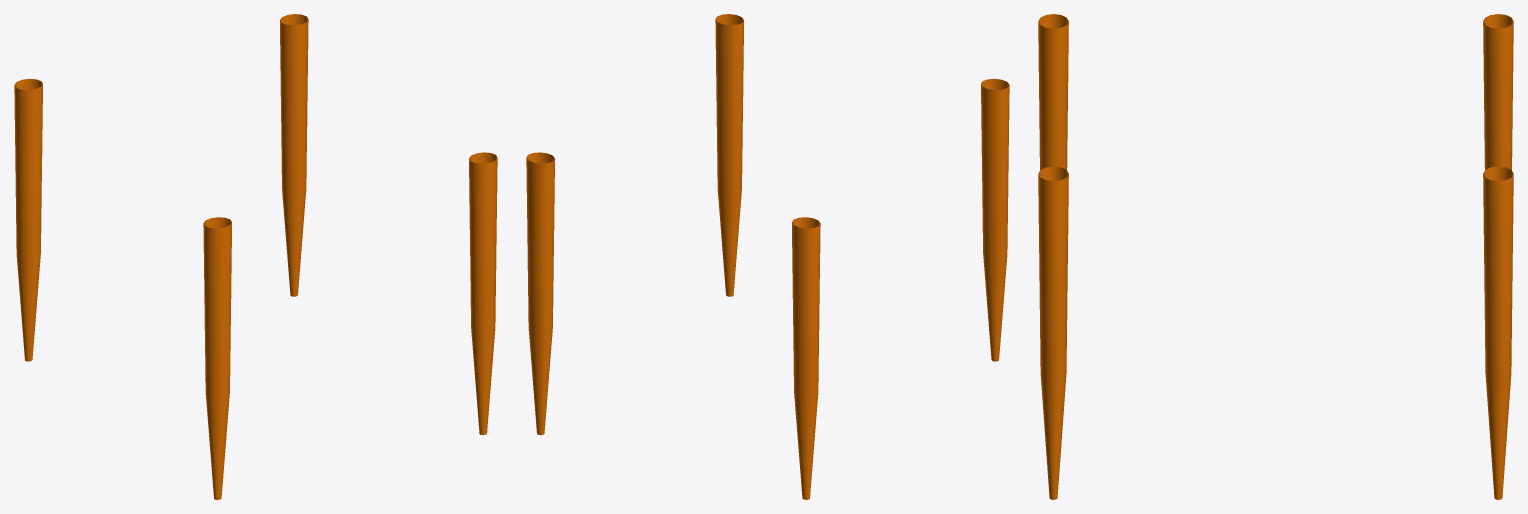
File: sandalye_ayag.fbx
3 views of the same model, side by side, from view 1: azimuth 30°, elevation 25°; view 2: azimuth 150°, elevation 25°; view 3: azimuth 270°, elevation 25° (orthographic). The views are drawn at different scales.
Parts seen in each view (by area): view 1: ayaklar; view 2: ayaklar; view 3: ayaklar.
Part boxes in pixels (x1,y1,x2,y2): ayaklar: (14, 14, 497, 499); ayaklar: (526, 14, 1009, 499); ayaklar: (1038, 14, 1513, 499).
Size of the model in its own units: 79.83 by 72.23 by 95.99.
